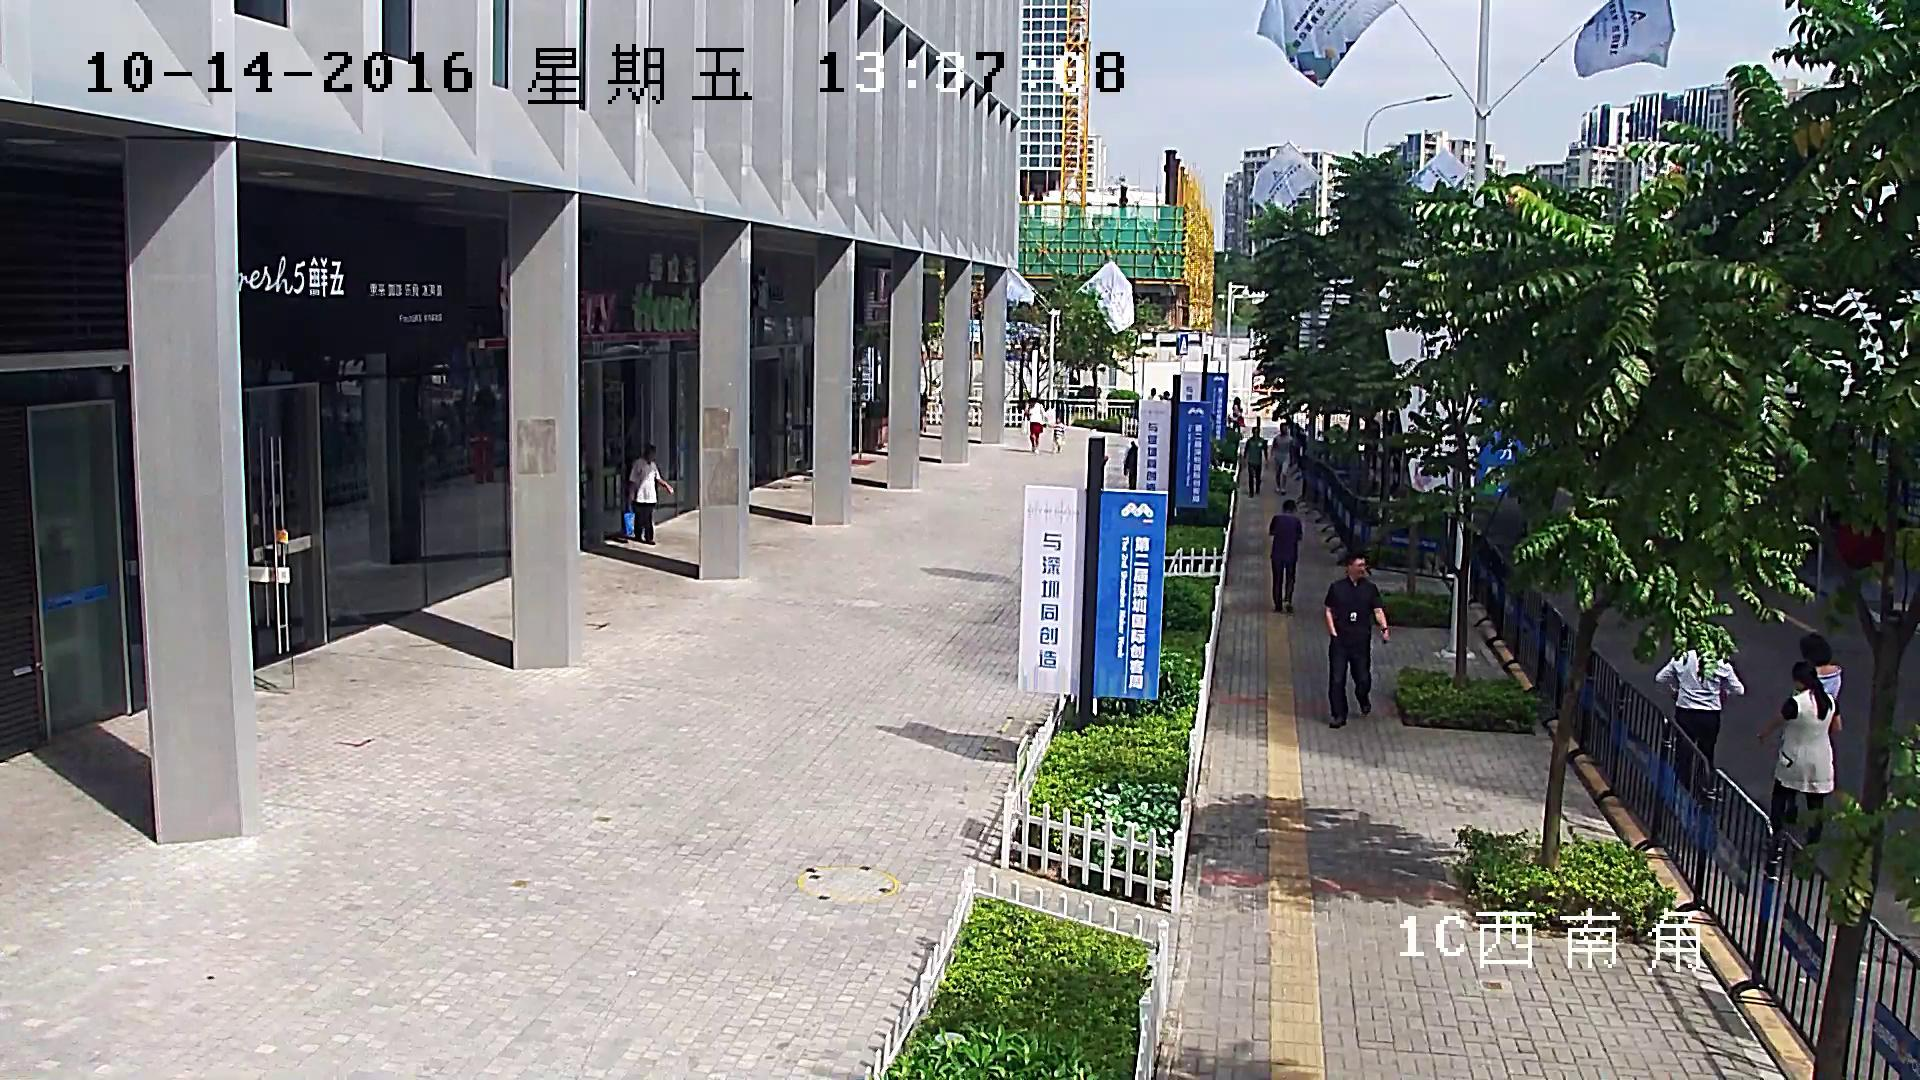person: (1753, 661, 1844, 870), (1654, 645, 1745, 812), (1323, 553, 1390, 728), (1784, 632, 1843, 827), (623, 443, 675, 544), (1268, 499, 1303, 615), (1242, 425, 1268, 498), (1271, 422, 1291, 495), (1024, 399, 1044, 453), (1228, 396, 1245, 434), (1048, 416, 1064, 453)
